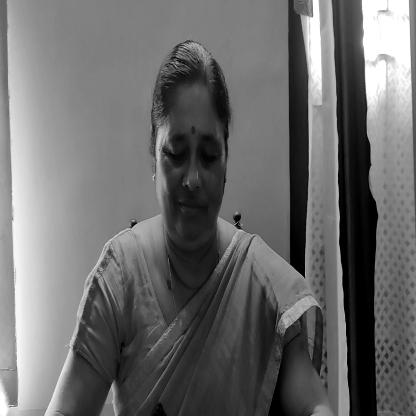Normal: (149, 53, 230, 248)
